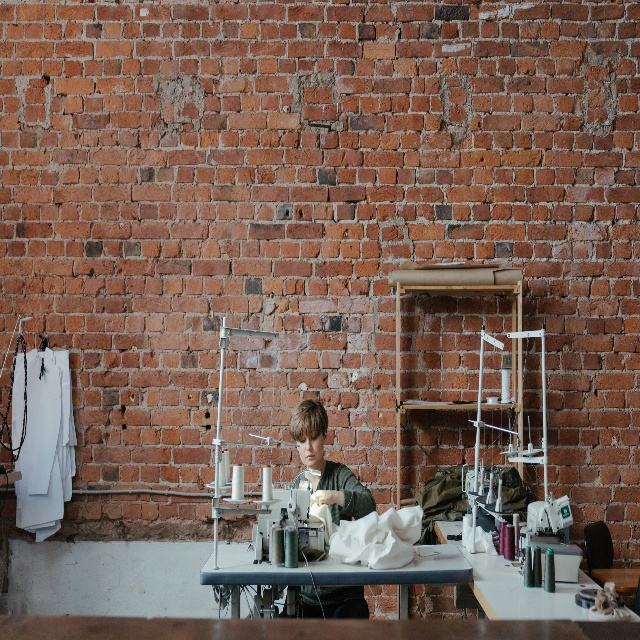Sin_guantes: (311, 489, 336, 507)
